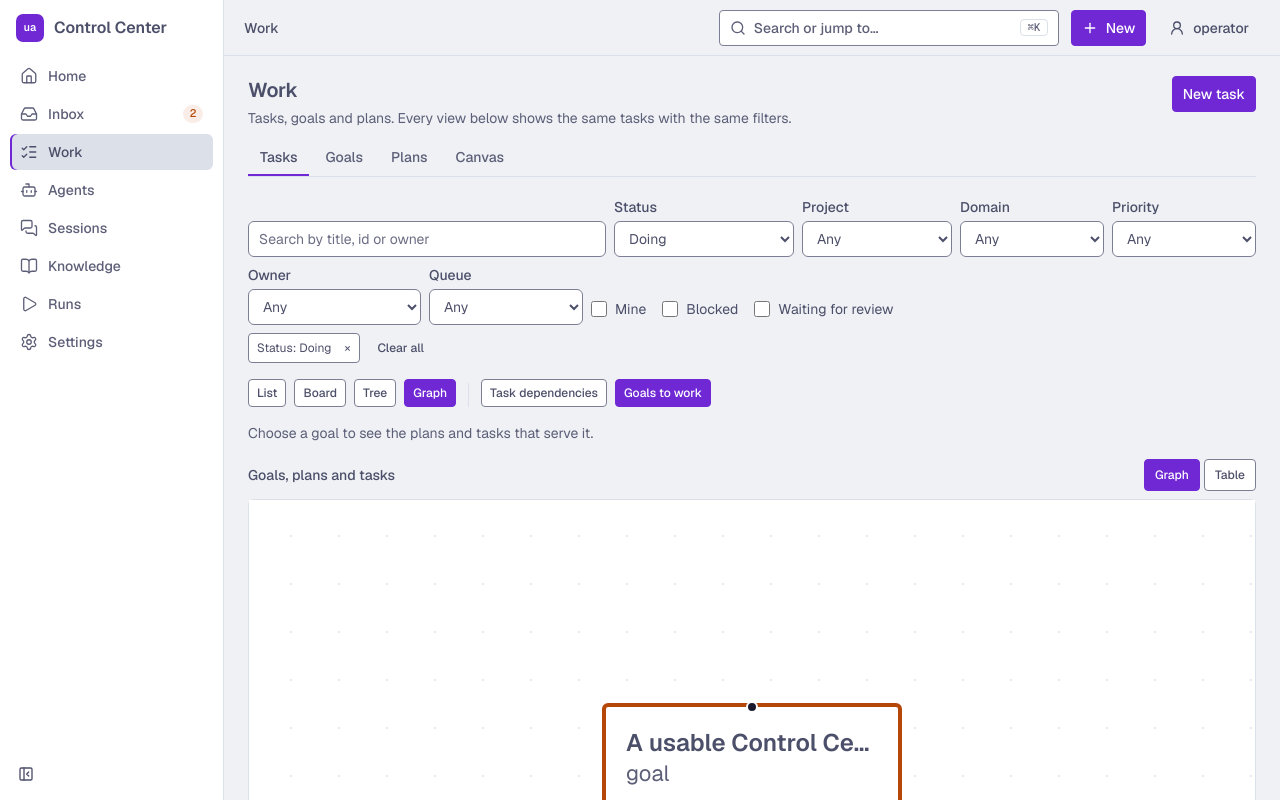
Scenario: work: task set › work graph: choosing a goal opens its subtree in the URL, with the task filters applied
The image size is (1280, 800).
Click the button "Table". click: [1230, 475]
box: [1204,459,1256,491]
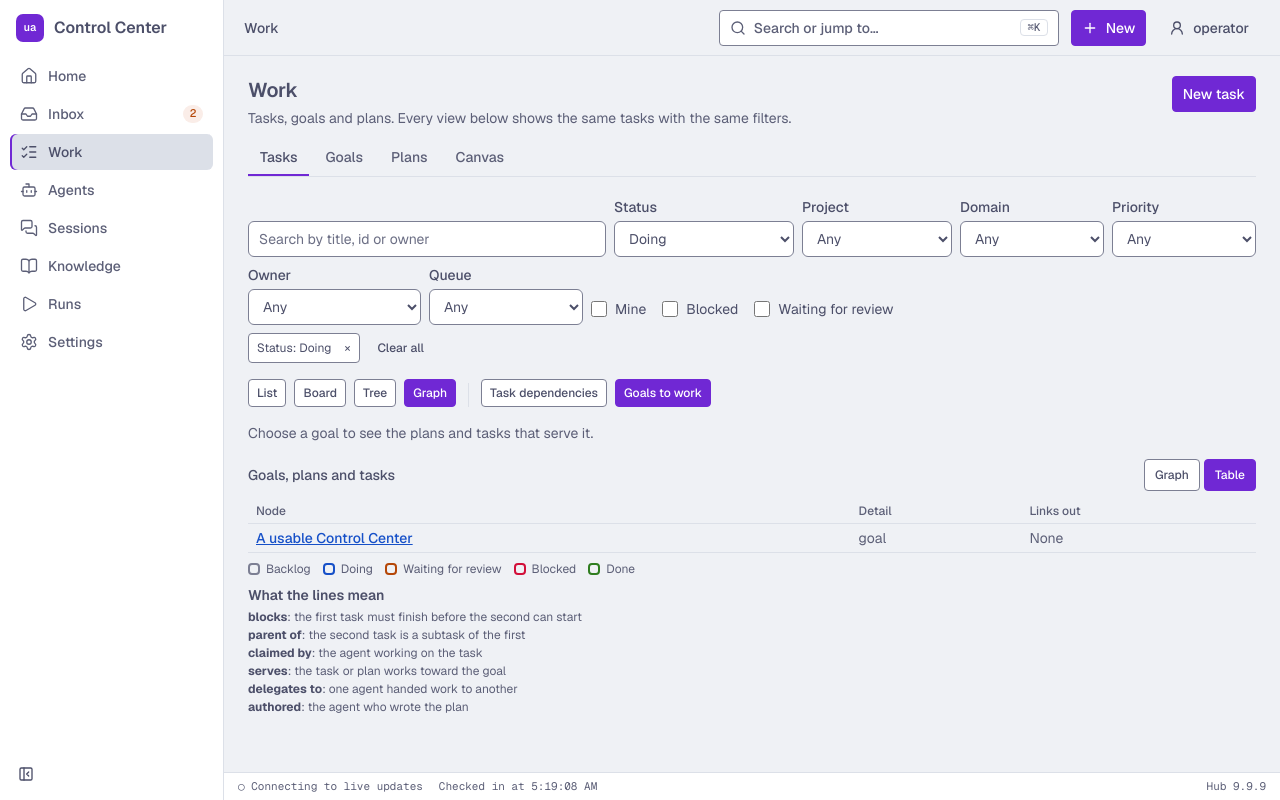
Click the button "A usable Control Center". click: [334, 538]
box: [256,528,413,548]
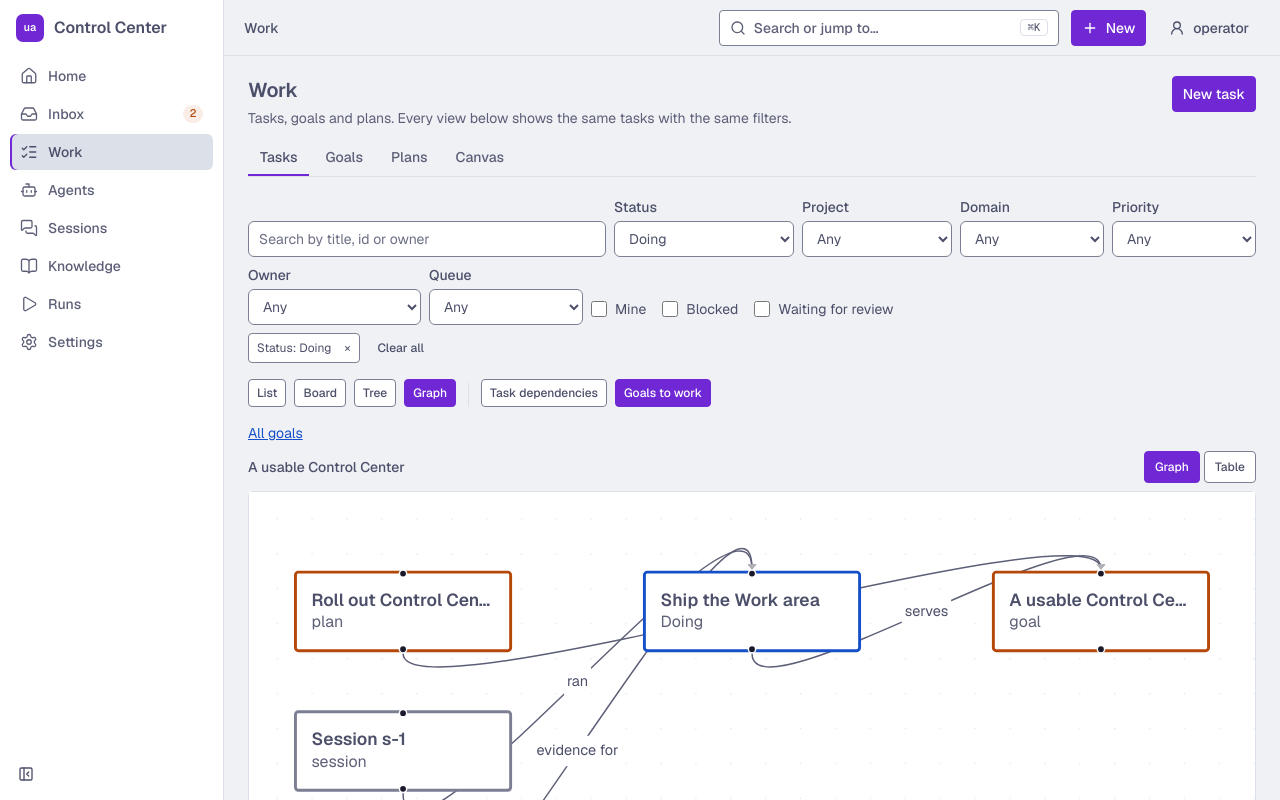
Click the button "Table". click: [1230, 467]
box: [1204,451,1256,483]
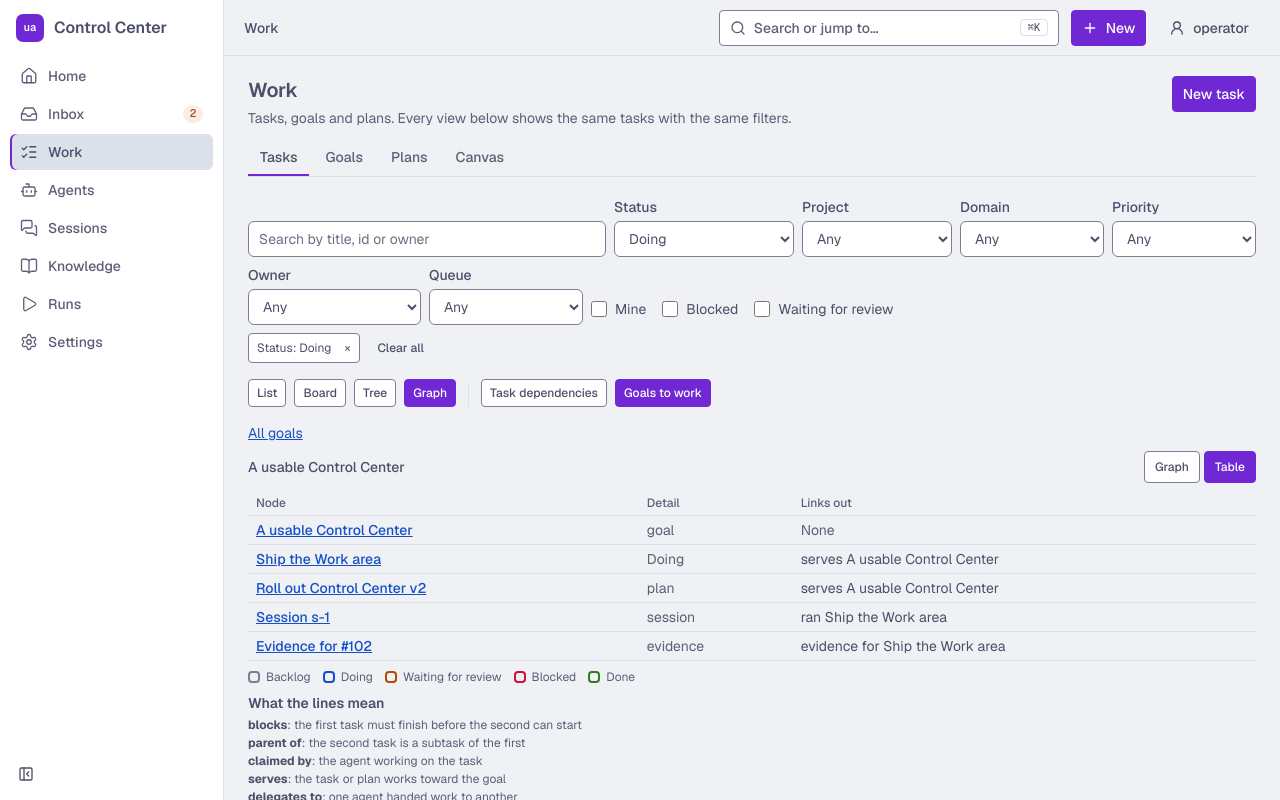
Now the link "All goals" is shown, box [248,424,303,442]
Now the button "Ship the Work area" is shown, box [256,549,381,569]
